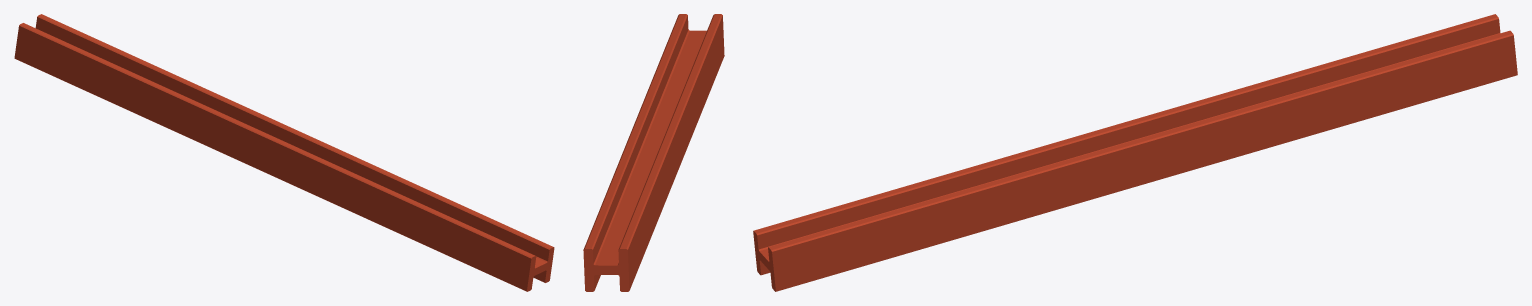
Rendered from Szyna.fbx.
The picture shows the model from 3 angles, left to right: view 1: azimuth 30°, elevation 25°; view 2: azimuth 150°, elevation 25°; view 3: azimuth 270°, elevation 25°; orthographic projection. The views are drawn at different scales.
Parts seen in each view (by area): view 1: Szyna; view 2: Szyna; view 3: Szyna.
Part boxes in pixels (bbox=[...]): Szyna: bbox=[14, 14, 554, 291]; Szyna: bbox=[583, 14, 724, 291]; Szyna: bbox=[753, 14, 1517, 291].
Bounding box in the file's own units: 425 × 171 × 904.
